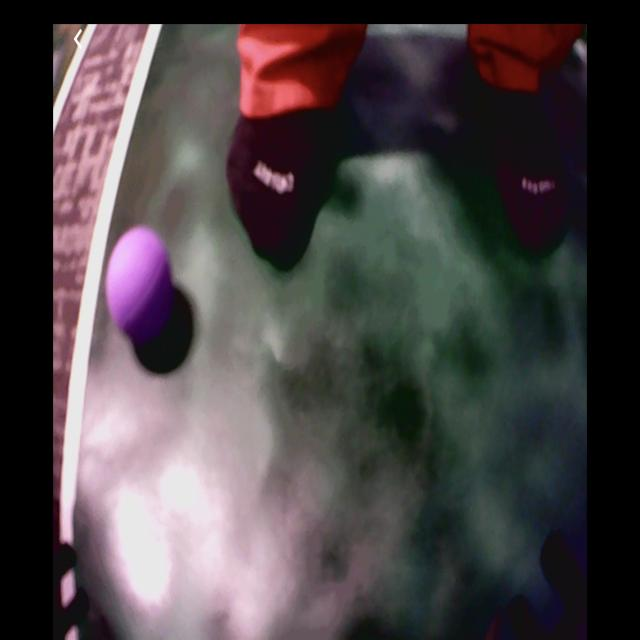ball: (106, 229, 175, 336)
